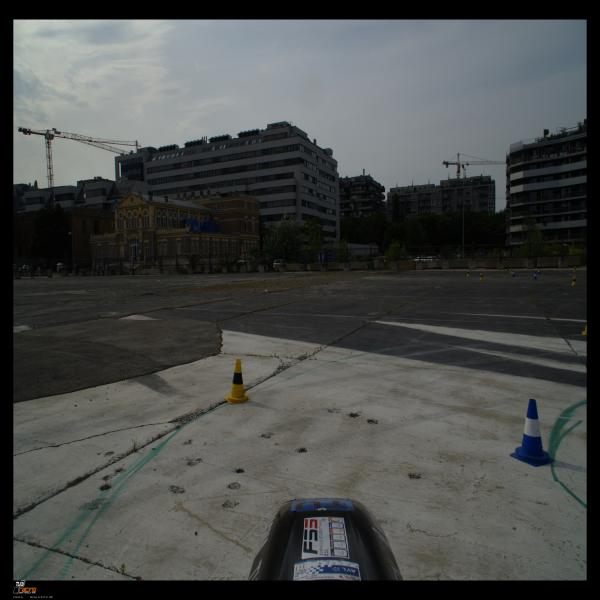blue_cone: (510, 398, 554, 466), (532, 272, 538, 280), (536, 268, 540, 275), (512, 270, 516, 276)
yellow_cone: (225, 359, 250, 404), (570, 275, 578, 286), (479, 272, 483, 280), (466, 270, 470, 277), (572, 266, 576, 272), (510, 268, 512, 274)
